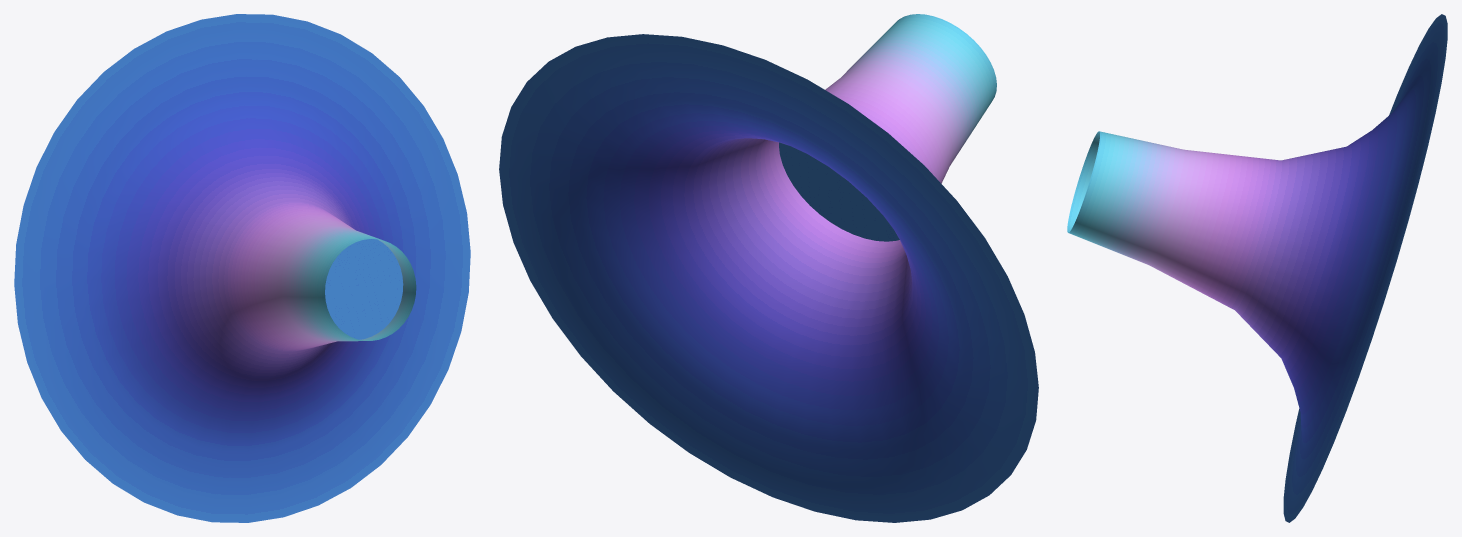
File: WormholeOrigin.fbx
3 views of the same model, side by side, from view 1: azimuth 30°, elevation 25°; view 2: azimuth 150°, elevation 25°; view 3: azimuth 270°, elevation 25° (orthographic). The views are drawn at different scales.
Visible parts, largest first — view 1: wormhole_geo; view 2: wormhole_geo; view 3: wormhole_geo.
Part boxes in pixels (box(x1,y1,x2,y2)): wormhole_geo: box(14, 14, 470, 522); wormhole_geo: box(499, 14, 1038, 522); wormhole_geo: box(1067, 14, 1447, 522).
Bounding box in the file's own units: 3.34 × 3.18 × 2.39.
Materials: 1 (1 with a texture image).
